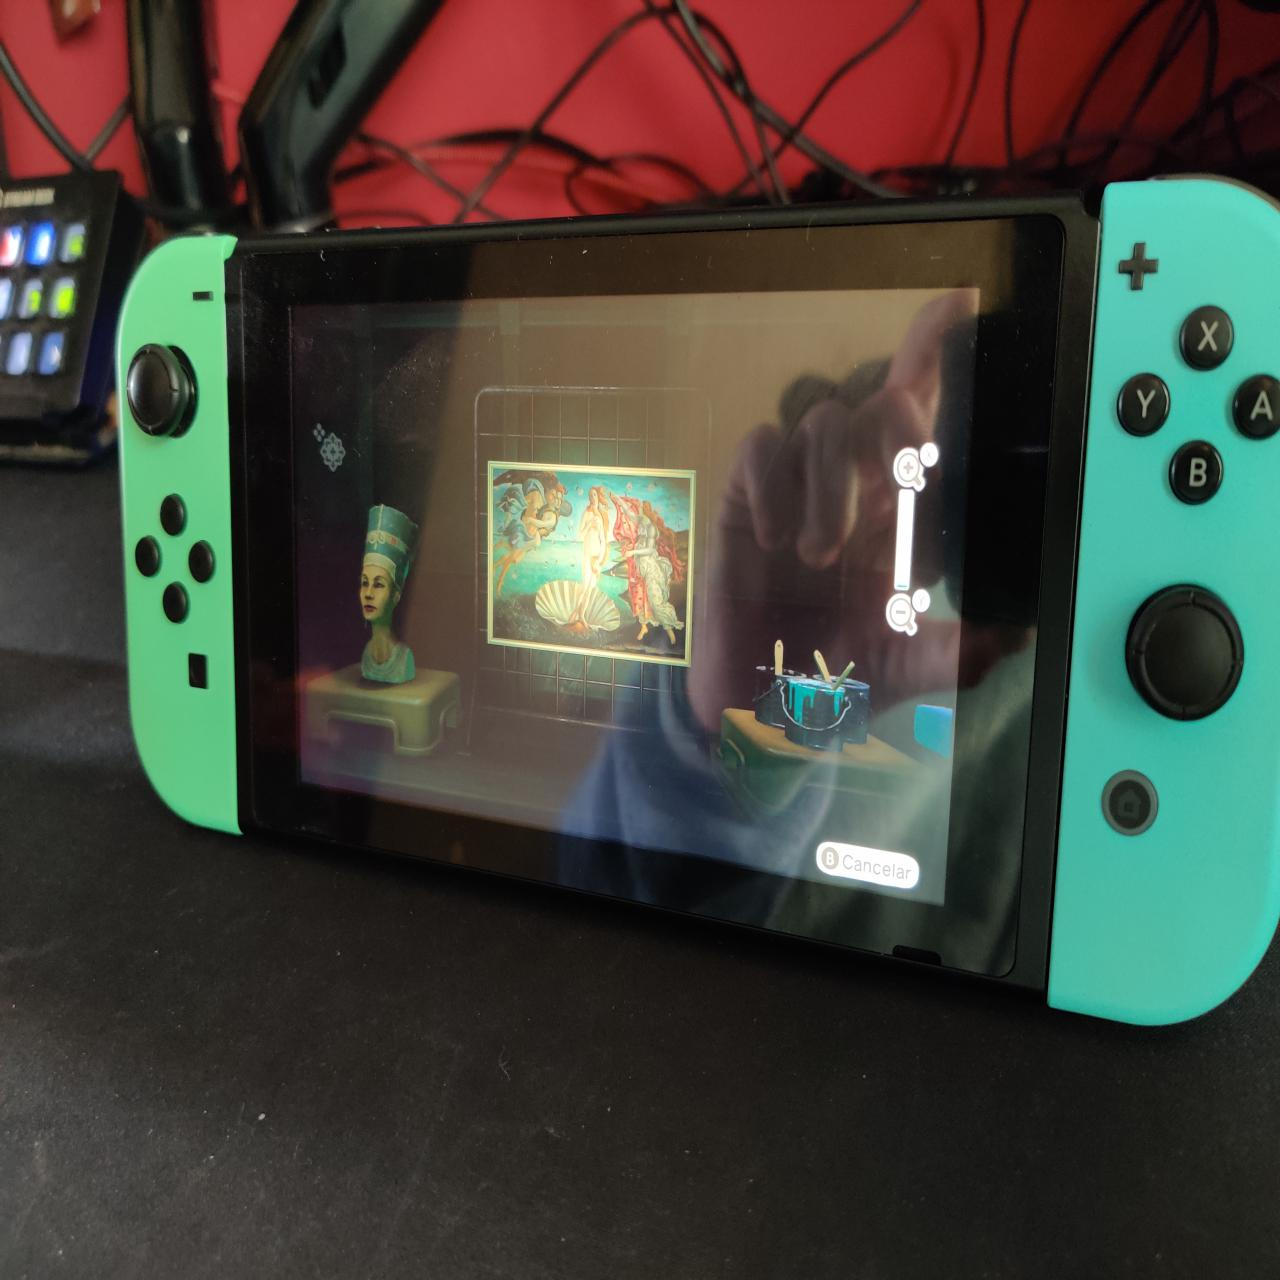BirthVenusFake: (493, 462, 695, 663)
Nefertiti: (360, 499, 418, 688)
